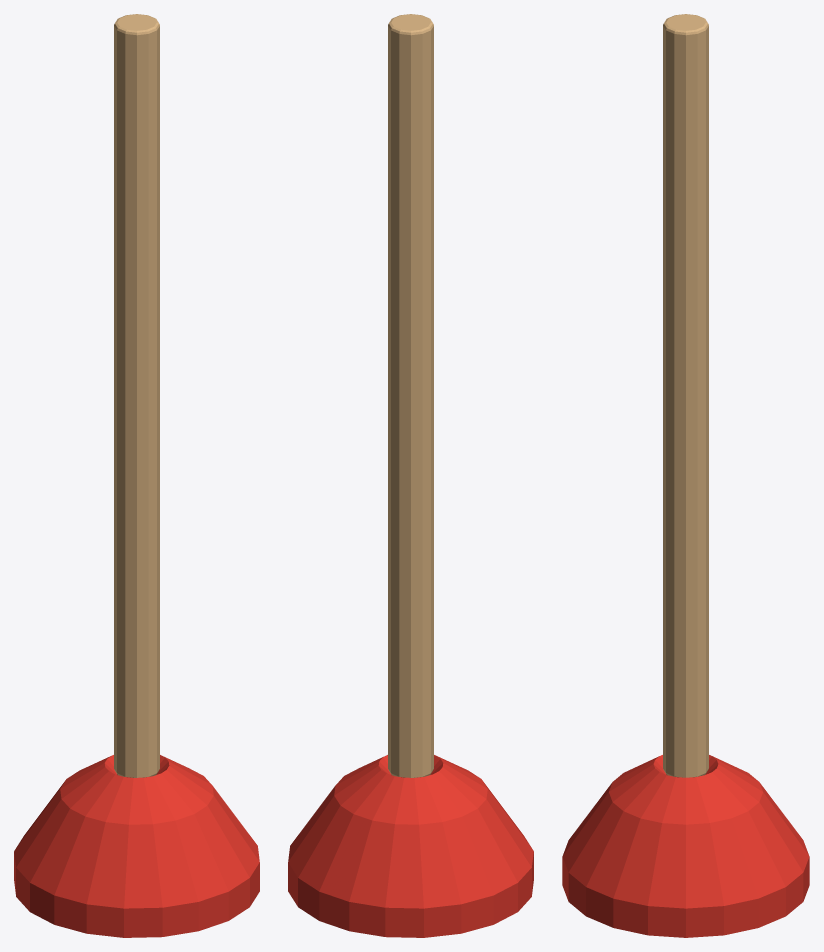
File: P045_plunger.glb
The picture shows the model from 3 angles, left to right: view 1: azimuth 30°, elevation 25°; view 2: azimuth 150°, elevation 25°; view 3: azimuth 270°, elevation 25°; orthographic projection.
Visible parts, largest first — view 1: P045_handle_002, P045_cup_001; view 2: P045_handle_002, P045_cup_001; view 3: P045_handle_002, P045_cup_001.
Part boxes in pixels (x1,y1,x2,y2): P045_handle_002: (114, 14, 159, 777); P045_cup_001: (14, 755, 259, 937); P045_handle_002: (388, 14, 433, 777); P045_cup_001: (288, 755, 533, 937); P045_handle_002: (663, 14, 708, 777); P045_cup_001: (562, 755, 809, 937).
Bounding box in the file's own units: 0.16 × 0.617 × 0.16.
